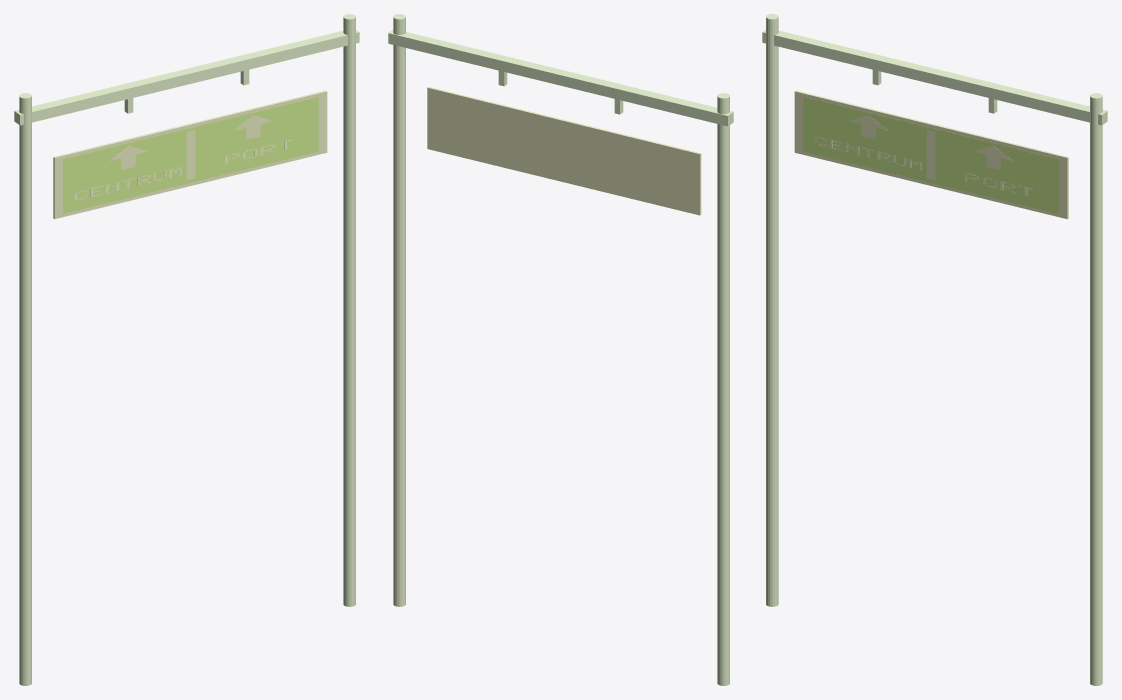
The model's file is sign_overhead_centrum_port_split.glb.
3 renders of one model, left to right at view 1: azimuth 30°, elevation 25°; view 2: azimuth 150°, elevation 25°; view 3: azimuth 330°, elevation 25°, orthographic.
Visible parts, largest first — view 1: layer_1_00, pole_left, pole_right, crossbar, plate_base_00; view 2: plate_base_00, pole_left, pole_right, crossbar; view 3: layer_1_00, pole_right, pole_left, crossbar, plate_base_00.
Part boxes in pixels (x1,y1,x2,y2): layer_1_00: (63,97,318,213); pole_left: (19,93,31,685); pole_right: (343,14,355,606); crossbar: (14,29,359,125); plate_base_00: (53,90,327,219); plate_base_00: (427,86,701,215); pole_left: (717,93,729,685); pole_right: (393,14,405,606); crossbar: (388,30,733,126); layer_1_00: (803,97,1058,213); pole_right: (1090,93,1102,685); pole_left: (766,14,778,606); crossbar: (762,29,1107,125); plate_base_00: (794,90,1068,219).
Bounding box in the file's own units: 3.05 × 5.04 × 0.108.
